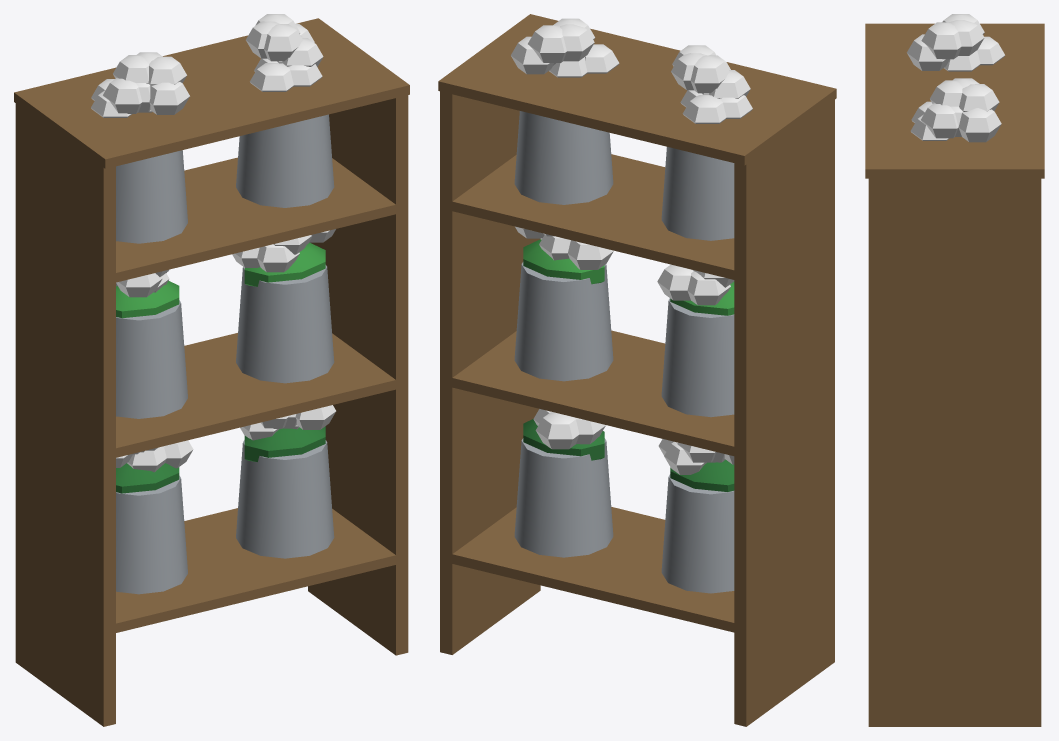
Rendered from sh_flowers.glb.
3 views of the same model, side by side, from view 1: azimuth 30°, elevation 25°; view 2: azimuth 150°, elevation 25°; view 3: azimuth 270°, elevation 25° (orthographic). The views are drawn at different scales.
Visible parts, largest first — view 1: shelf, bucket, blossom.036, foliage, foliage.002, blossom, blossom.018; view 2: shelf, bucket, blossom.036, blossom.018, blossom, foliage, foliage.002; view 3: shelf, blossom.036.
Boxes of the visible parts, box(x1,y1,x2,y2) form: shelf: box(14, 18, 409, 726); bucket: box(116, 114, 334, 594); blossom.036: box(91, 14, 323, 117); foliage: box(116, 426, 325, 493); foliage.002: box(116, 242, 325, 318); blossom: box(116, 405, 336, 472); blossom.018: box(116, 229, 335, 297); shelf: box(438, 14, 836, 726); bucket: box(514, 111, 734, 593); blossom.036: box(511, 18, 752, 123); blossom.018: box(515, 226, 734, 305); blossom: box(533, 409, 734, 474); foliage: box(523, 419, 734, 491); foliage.002: box(523, 239, 734, 315); shelf: box(865, 23, 1044, 726); blossom.036: box(907, 14, 1004, 142).
Bounding box in the file's own units: 1 × 1.94 × 0.52.
